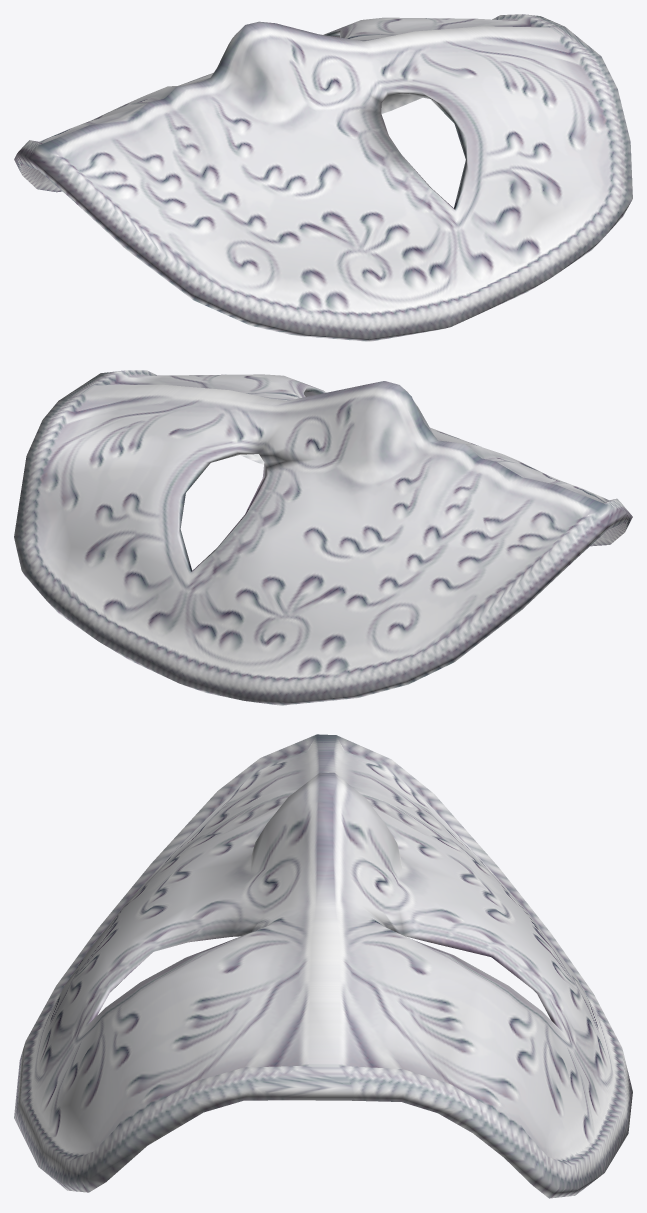
The model's file is PiousMask_Ground.fbx.
3 views of the same model, one above another, from view 1: azimuth 30°, elevation 25°; view 2: azimuth 150°, elevation 25°; view 3: azimuth 270°, elevation 25° (orthographic). The views are drawn at different scales.
Visible parts, largest first — view 1: PiousMask; view 2: PiousMask; view 3: PiousMask.
Boxes of the visible parts, <box> form: PiousMask: <box>14,14,632,341</box>; PiousMask: <box>14,370,632,705</box>; PiousMask: <box>14,734,632,1198</box>.
Bounding box in the file's own units: 0.1213 × 0.0515 × 0.094.
